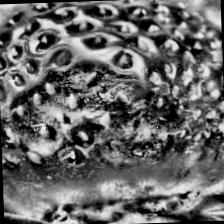Anthracnose Fruit Rot: (0, 35, 224, 193)
